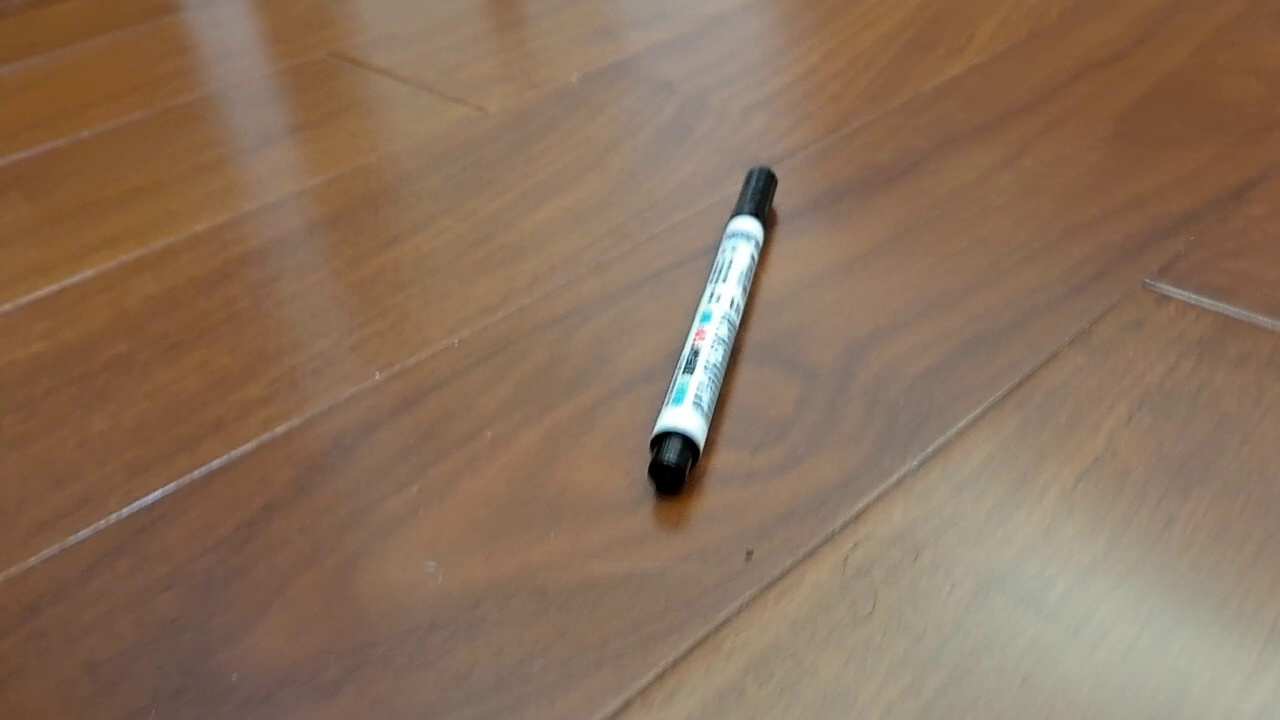pen: (647, 166, 778, 496)
